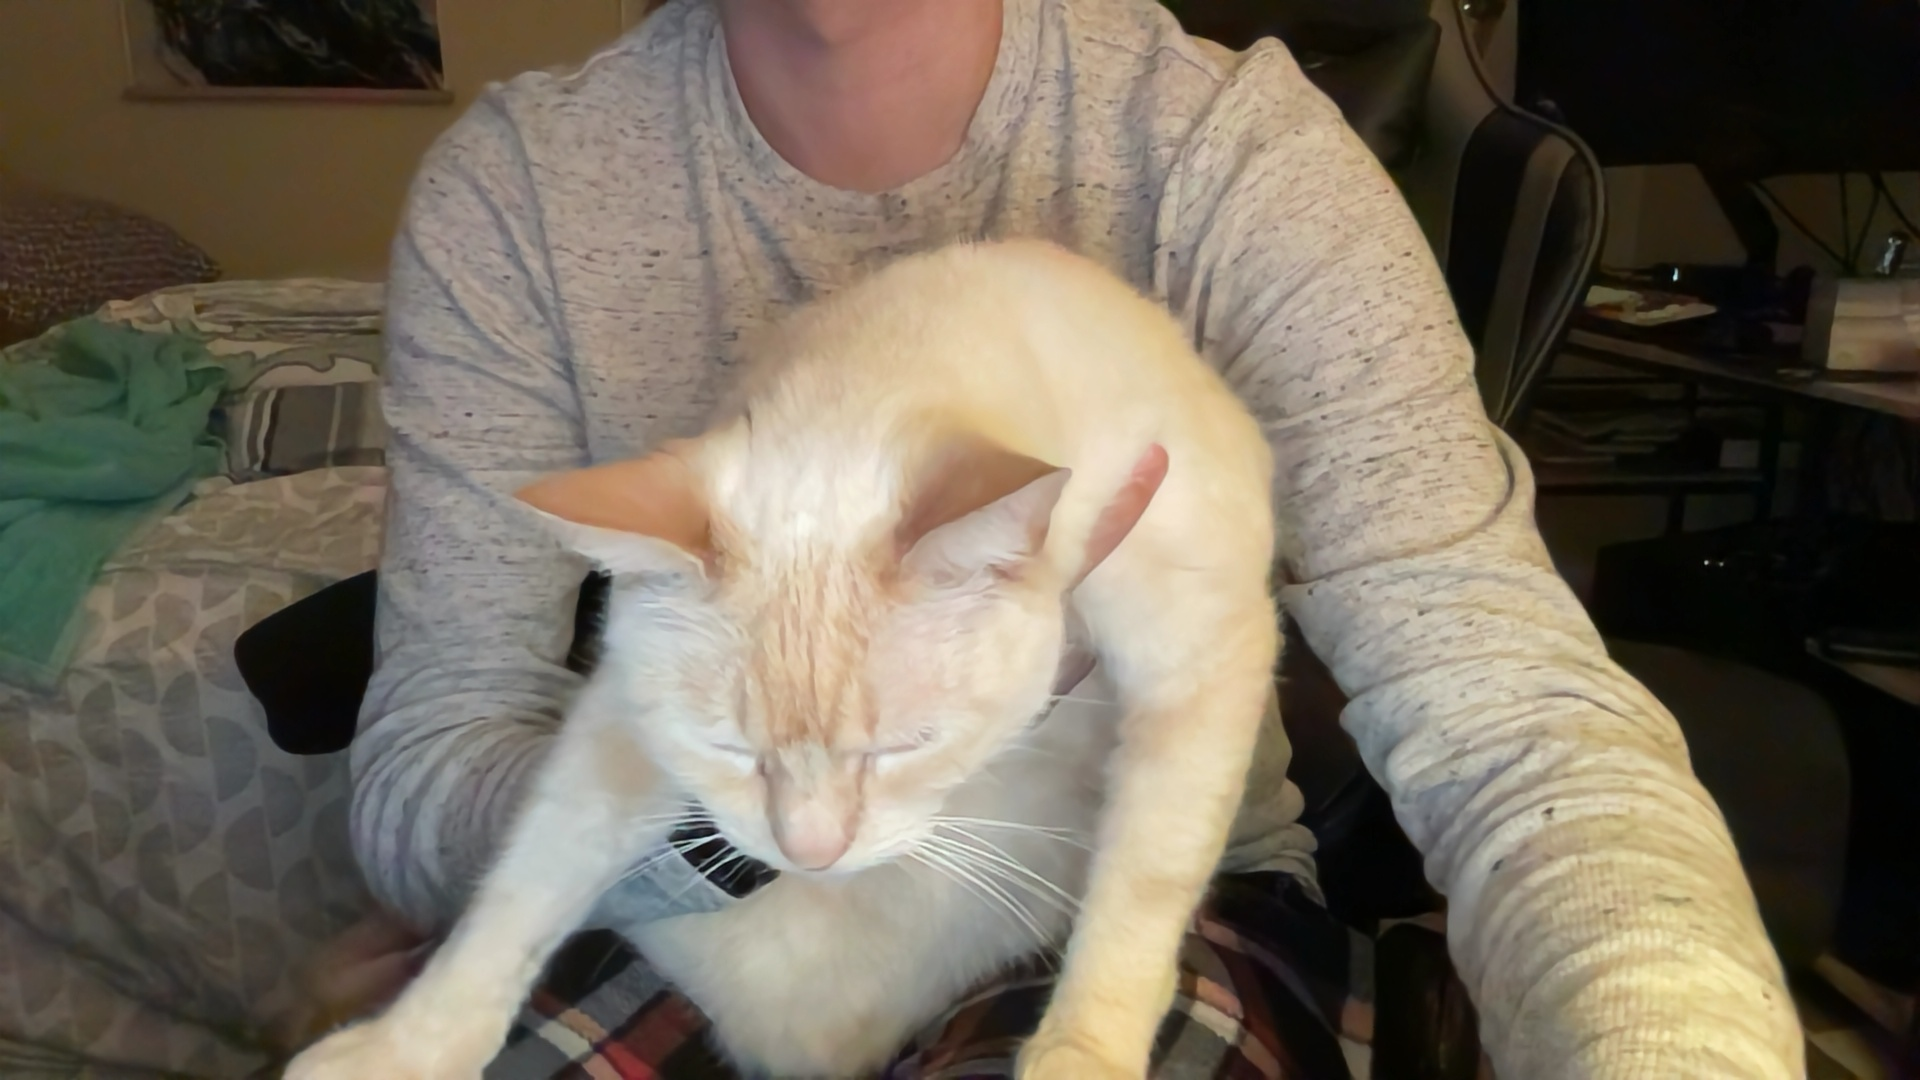cat: (295, 232, 1313, 1080)
